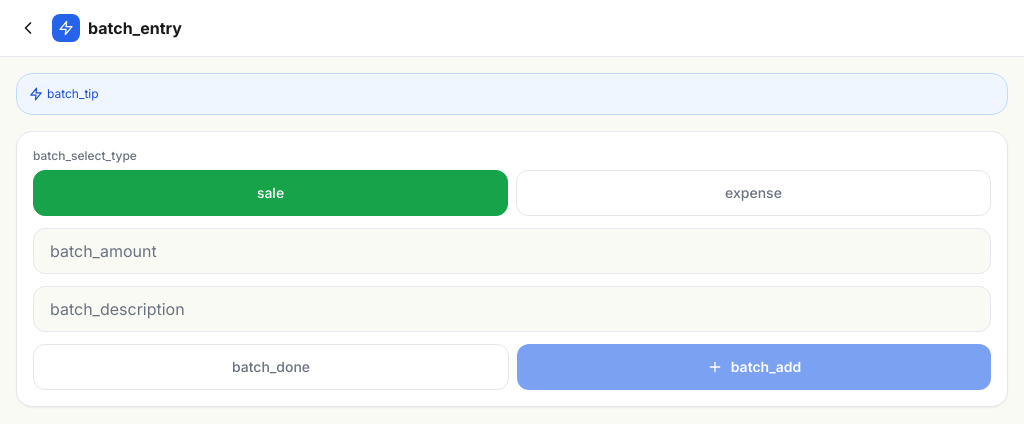
it: BatchEntryScreen › enables add button when valid amount entered
The width and height of the screenshot is (1024, 424).
Type "500" into the number field with placeholder "batch_amount".
click(512, 251); type("500")  # box [33, 228, 991, 274]
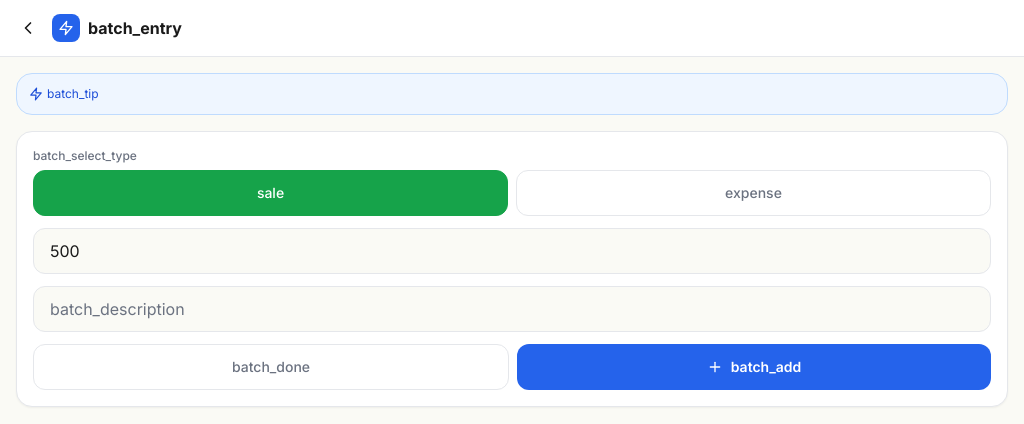
Expected: the button "batch_add" is enabled, [517, 344, 991, 390]
